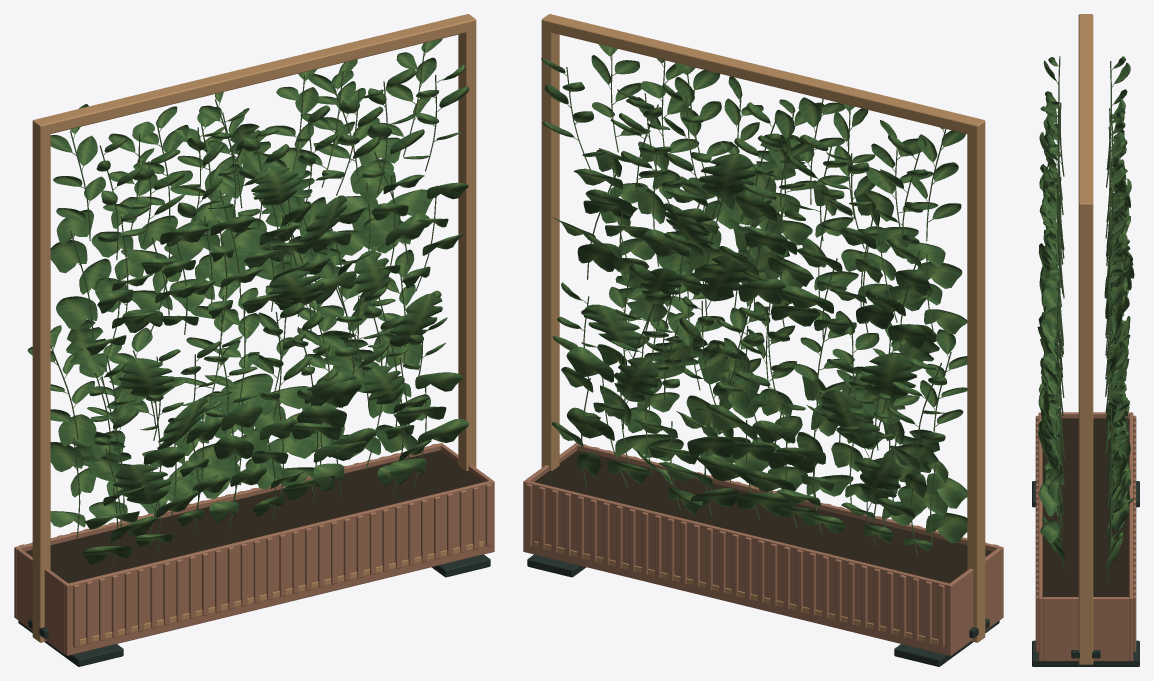
The model's file is botanicalDivider-4.glb.
3 renders of one model, left to right at view 1: azimuth 30°, elevation 25°; view 2: azimuth 150°, elevation 25°; view 3: azimuth 270°, elevation 25°, orthographic. The views are drawn at different scales.
Parts seen in each view (by area): view 1: Botanical_living_foliage, Botanical_terracotta, Botanical_frame_finish, Botanical_recessed_soil, Botanical_connected_stems, Botanical_leaf_midribs, Botanical_powdercoat; view 2: Botanical_living_foliage, Botanical_terracotta, Botanical_frame_finish, Botanical_recessed_soil, Botanical_connected_stems, Botanical_leaf_midribs, Botanical_powdercoat; view 3: Botanical_living_foliage, Botanical_frame_finish, Botanical_terracotta, Botanical_recessed_soil, Botanical_connected_stems, Botanical_powdercoat, Botanical_leaf_midribs.
Part boxes in pixels (x1,y1,x2,y2): Botanical_living_foliage: [27, 38, 469, 564]; Botanical_terracotta: [14, 443, 494, 655]; Botanical_frame_finish: [32, 14, 483, 645]; Botanical_recessed_soil: [25, 450, 483, 583]; Botanical_connected_stems: [50, 48, 441, 564]; Botanical_leaf_midribs: [51, 48, 465, 552]; Botanical_powdercoat: [18, 554, 490, 666]; Botanical_living_foliage: [541, 44, 967, 551]; Botanical_terracotta: [523, 443, 1003, 655]; Botanical_frame_finish: [534, 14, 985, 645]; Botanical_recessed_soil: [534, 450, 992, 583]; Botanical_connected_stems: [563, 53, 951, 555]; Botanical_leaf_midribs: [543, 48, 966, 543]; Botanical_powdercoat: [527, 554, 999, 666]; Botanical_living_foliage: [1037, 56, 1134, 571]; Botanical_frame_finish: [1078, 14, 1093, 664]; Botanical_terracotta: [1035, 412, 1136, 661]; Botanical_recessed_soil: [1042, 418, 1129, 597]; Botanical_connected_stems: [1054, 56, 1115, 581]; Botanical_powdercoat: [1032, 481, 1139, 666]; Botanical_leaf_midribs: [1040, 60, 1131, 555].
Bounding box in the file's own units: 2 × 2.3 × 0.48.
